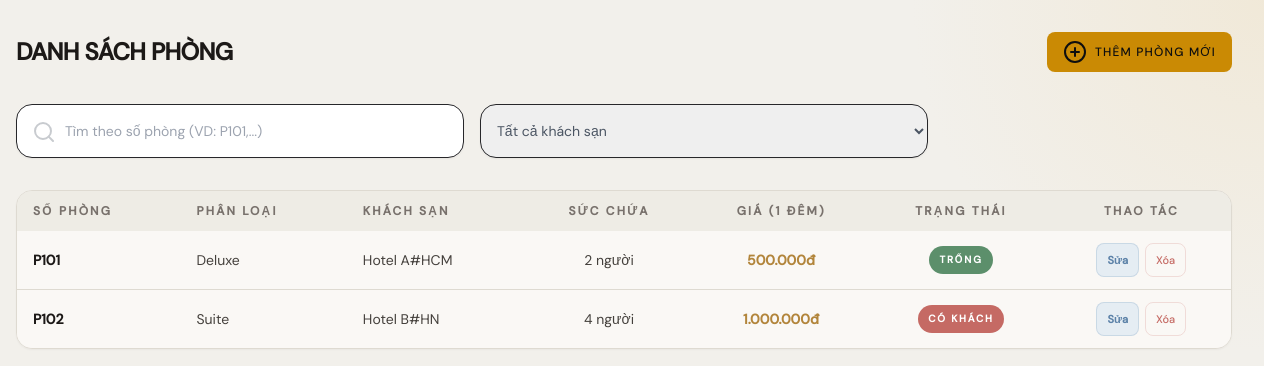
AdminRoomManagement › filter theo khách sạn
The image size is (1264, 366).
Expected: the text "P101" is shown, [17,231,180,290]
Select "Hotel A" in the dropdown. click: (704, 131)
box: [480,104,928,158]
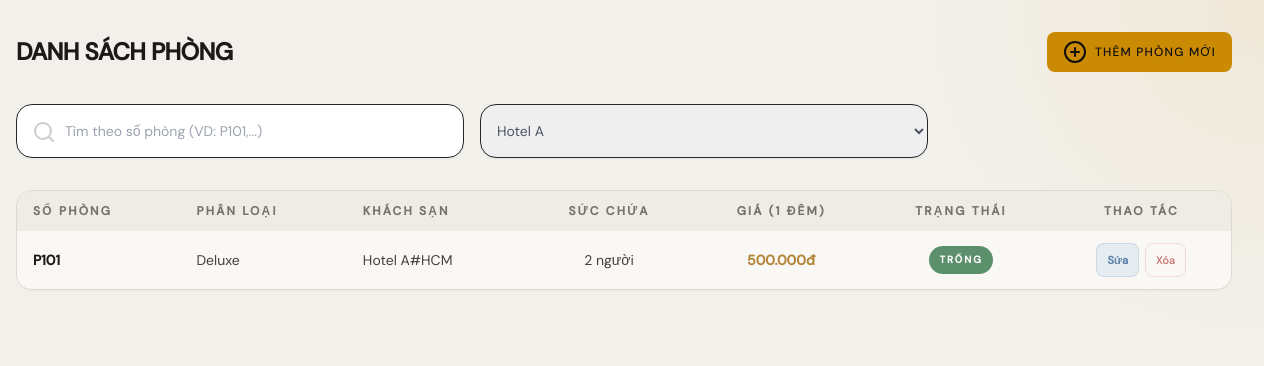
Expected: the text "P101" is shown, [17,231,180,289]
Expected: the text "P102" is gone
